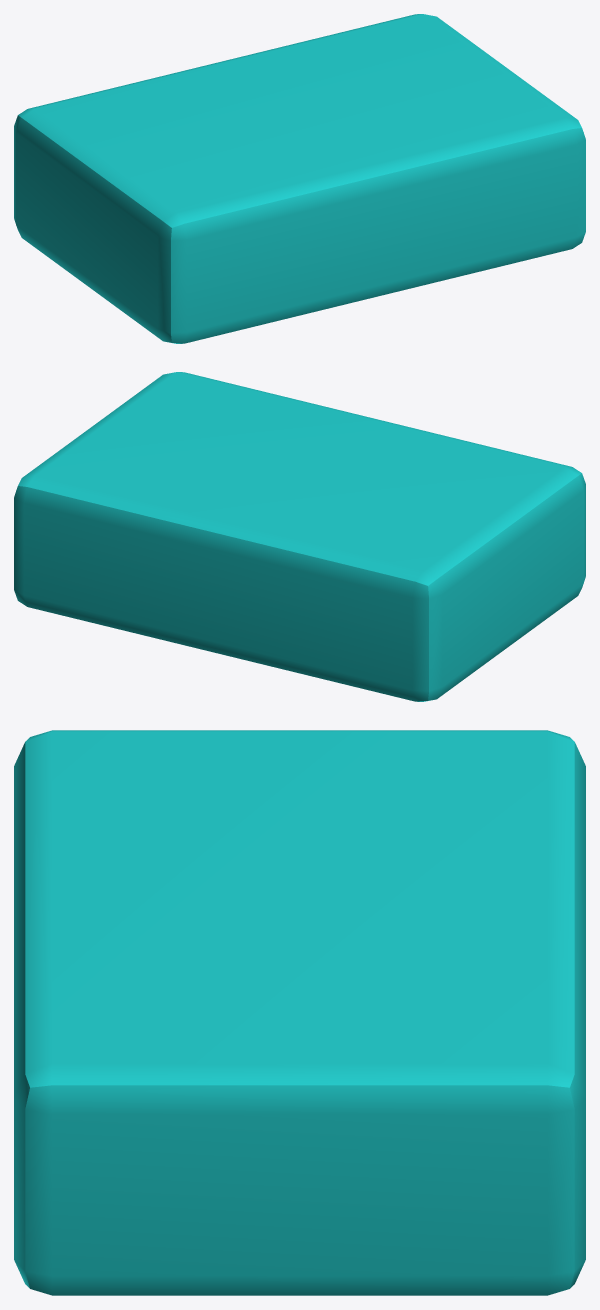
Rendered from Jabon01.fbx.
3 views of the same model, one above another, from view 1: azimuth 30°, elevation 25°; view 2: azimuth 150°, elevation 25°; view 3: azimuth 270°, elevation 25° (orthographic). The views are drawn at different scales.
Visible parts, largest first — view 1: Jabon01; view 2: Jabon01; view 3: Jabon01.
Boxes of the visible parts, x1,y1,x2,y2 form: Jabon01: [14, 14, 585, 343]; Jabon01: [14, 372, 585, 701]; Jabon01: [14, 730, 585, 1295].
Bounding box in the file's own units: 0.1533 × 0.0452 × 0.1017.
